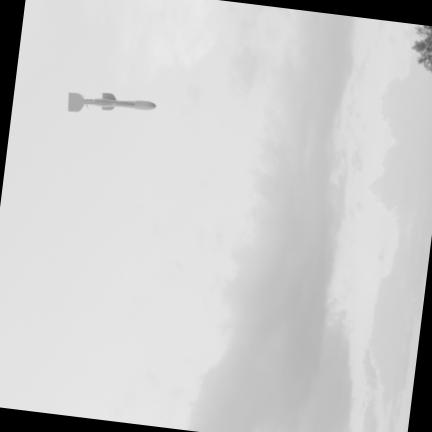Shahed: (67, 91, 156, 111)
